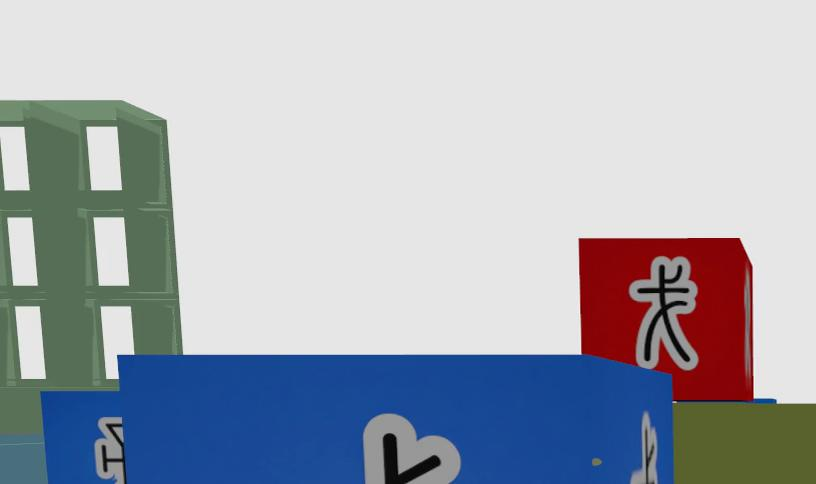KFS_FAKE: (580, 239, 753, 401), (629, 257, 698, 368)
KFS_REAL: (121, 355, 676, 484), (42, 390, 128, 484), (358, 415, 460, 484), (94, 417, 126, 484), (630, 412, 658, 484)
